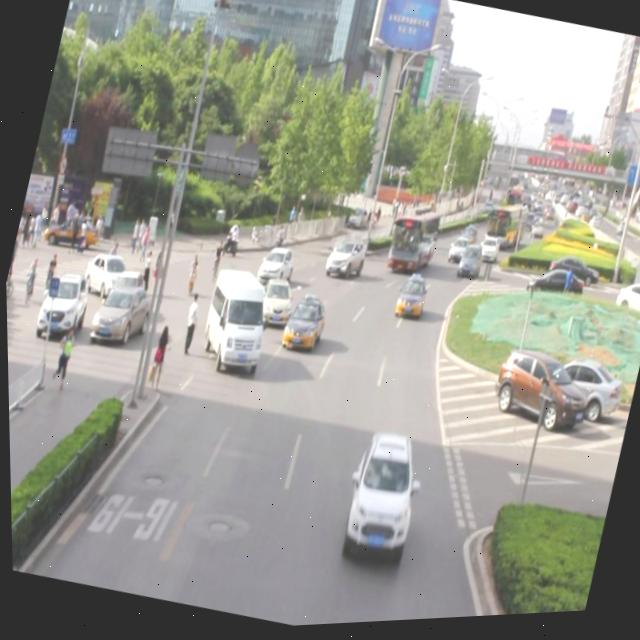car: (335, 428, 425, 562), (277, 294, 326, 355), (253, 275, 295, 329), (388, 273, 428, 328), (321, 237, 366, 285), (253, 244, 295, 290), (452, 244, 483, 286)
truck: (194, 264, 275, 373)
van: (381, 206, 441, 278)
